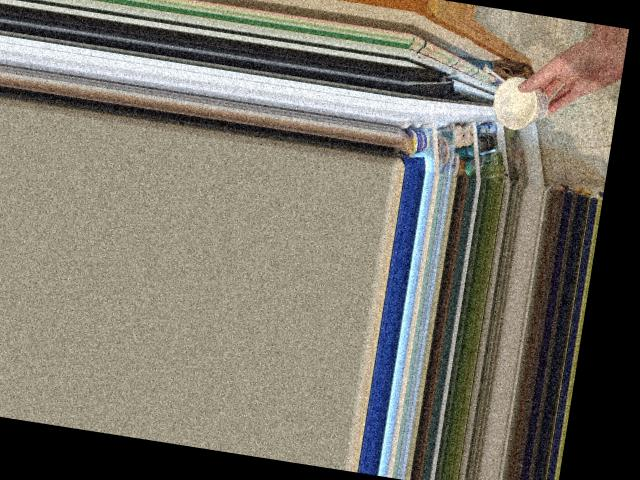cotage: (491, 71, 556, 127)
